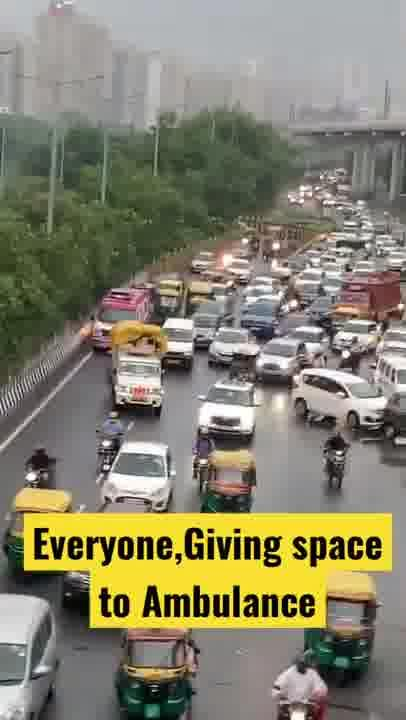AMBULANCE: (87, 286, 148, 345)
